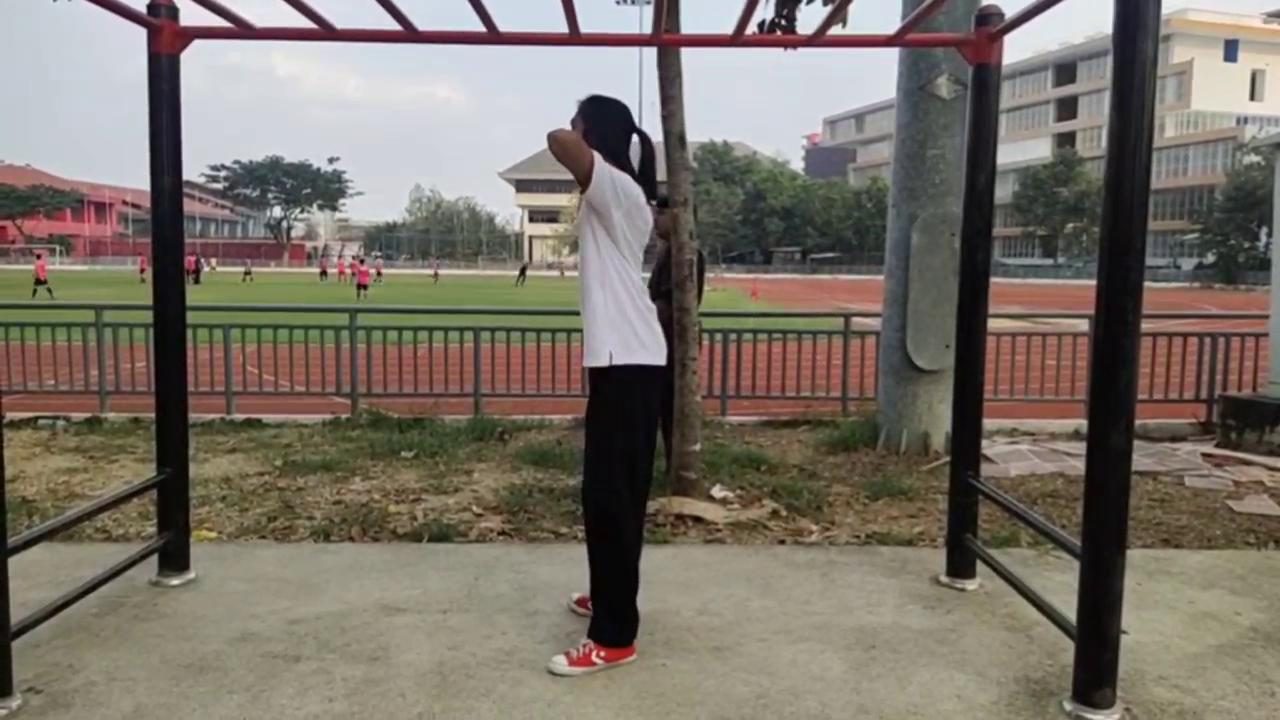squat up: (546, 97, 671, 678)
